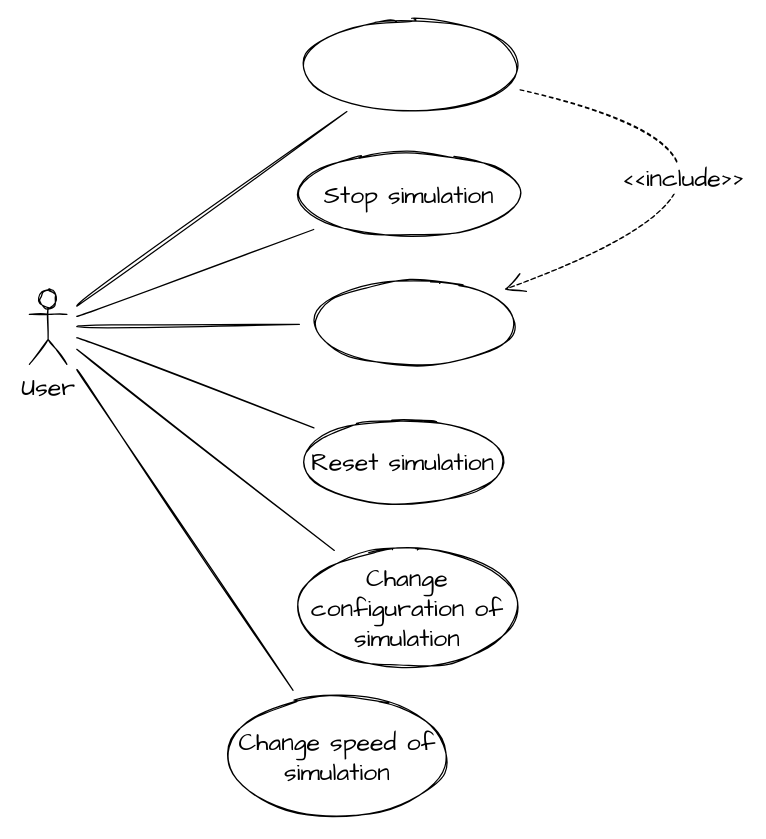
Image size: 766x839. Some labels were removed from this diagram. Each missing label, with the centre of its shape:
One step simulation: point 413,322
Start simulation: point 410,65
